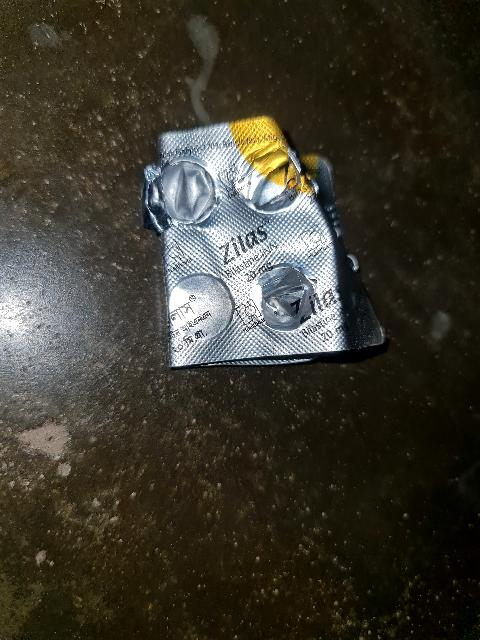medicine: (132, 108, 394, 381)
